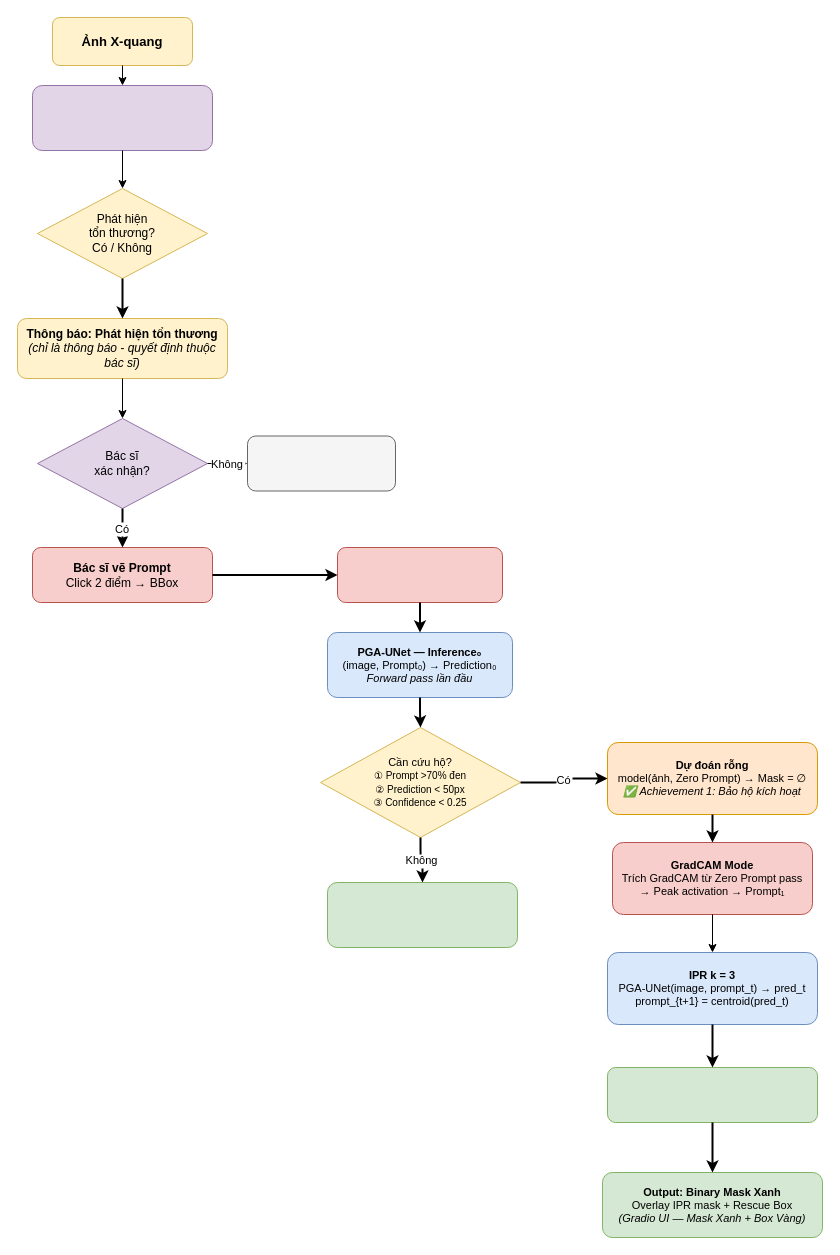
The diagram is 840 pixels wide and 1255 high, and some of its shapes have lost their labels. Here are the shapes that lost their labels. From the top down, the centre of each, then its label:
At [122,117]: "MobileNetV4 Phân loại tổn thương xương Acc = 88% | F1 = 88%".
At [321,463]: "Bác sĩ bác bỏ → Kết thúc".
At [419,574]: "Sinh Prompt₀ BBox → Gaussian heatmap".
At [422,915]: "Output: Binary Mask Đỏ Overlay Prediction₀ lên ảnh gốc (Gradio UI — Mask Đỏ)".
At [712,1094]: "LCC Extraction Lấy vùng liên thông lớn nhất, loại noise".
